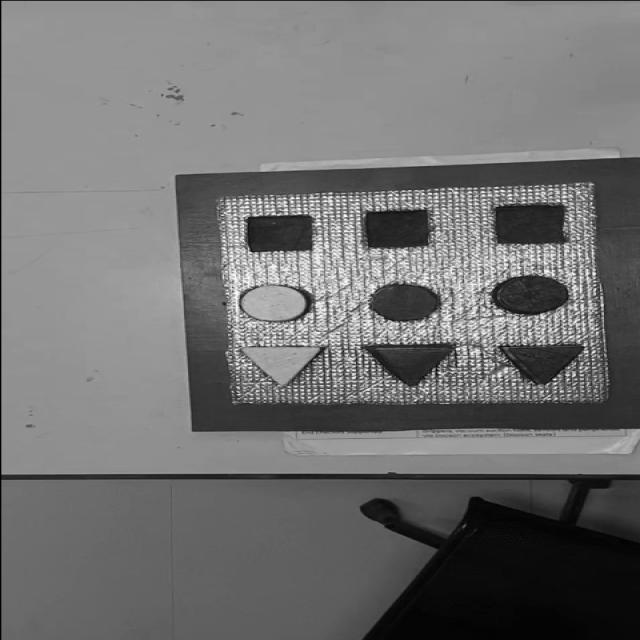bcircle: (490, 274, 572, 316)
btriangle: (496, 342, 586, 386)
mtcube: (493, 203, 567, 244), (362, 209, 432, 249), (244, 215, 314, 252)
rcircle: (367, 282, 441, 322)
rtriangle: (361, 344, 457, 386)
wb: (213, 183, 610, 404)
ycircle: (238, 284, 310, 322)
ytriangle: (237, 345, 325, 388)
